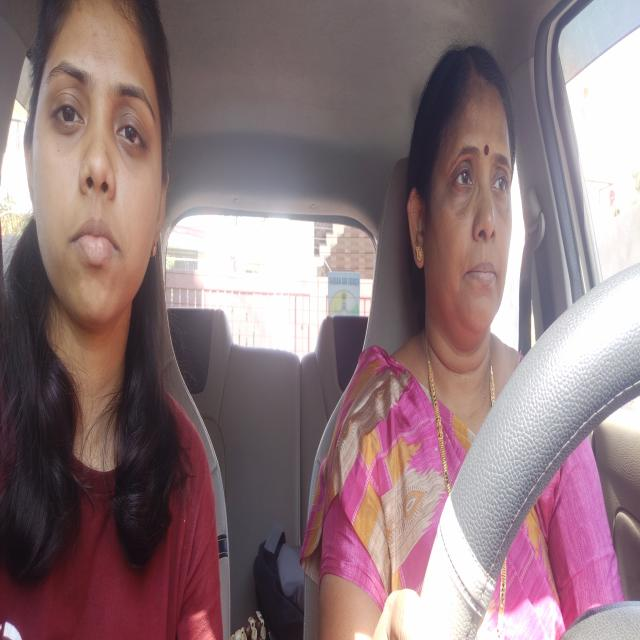person: (17, 0, 174, 341), (406, 41, 518, 348)
